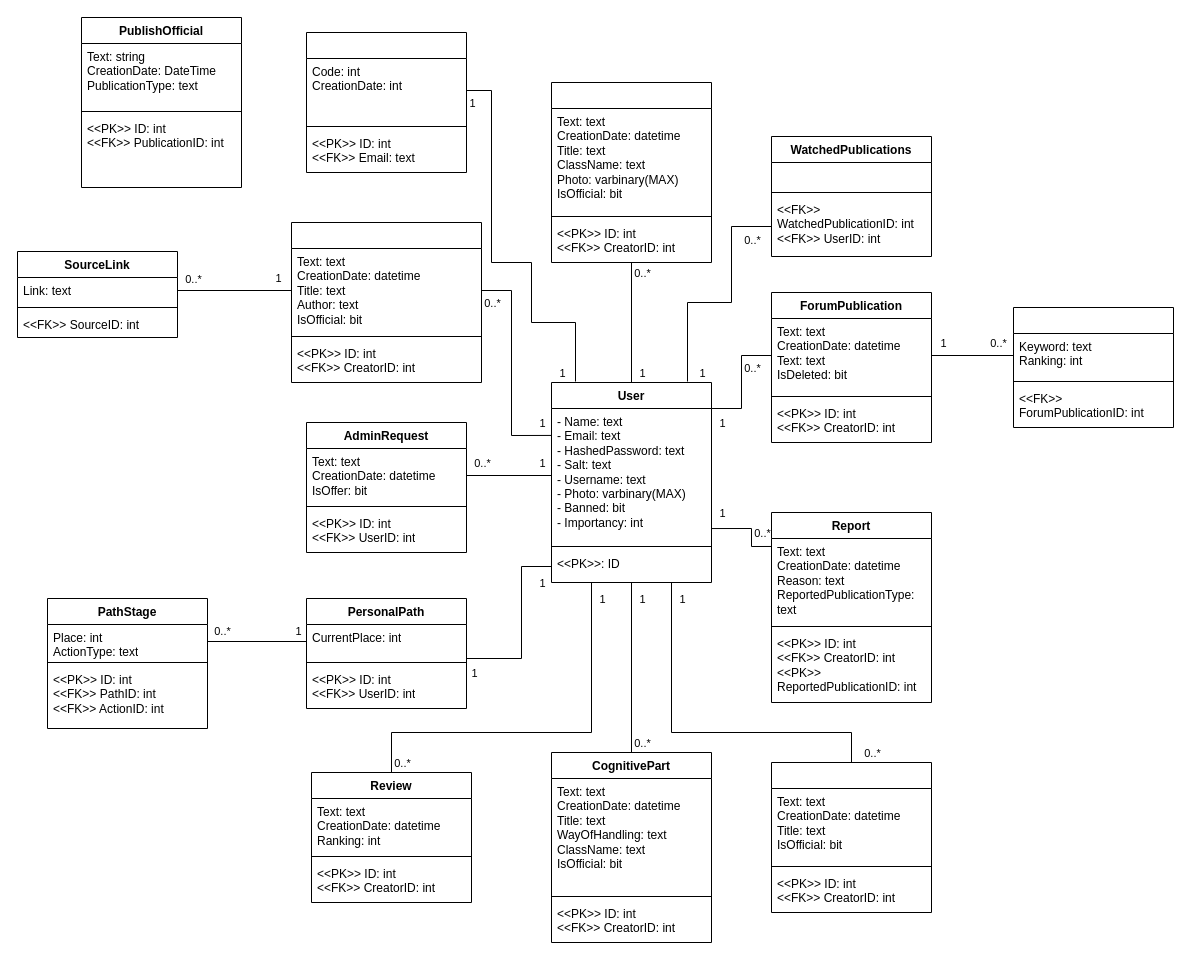
Some shapes in this 1191 by 963 pixel diagram are drawn without their labels. Here are the shapes that lost their labels. From the top down, the box of each, then its label:
(306, 32, 466, 172): EmailProof
(550, 82, 712, 262): Content
(290, 222, 482, 382): Source
(1012, 306, 1174, 428): ForumKeywords
(770, 762, 932, 912): Exercise
